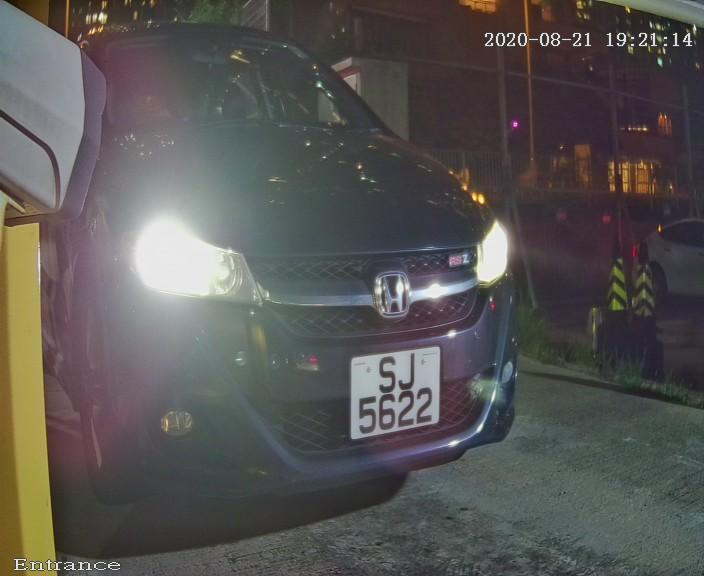Car: (7, 8, 560, 528)
License Plate: (337, 340, 450, 445)
